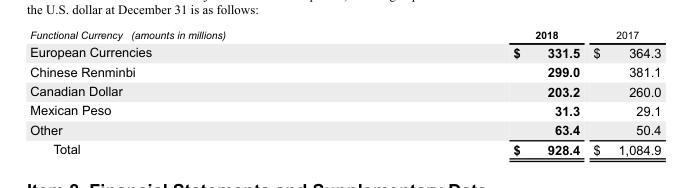table: (29, 28, 660, 156)
table column: (29, 28, 368, 156), (368, 28, 585, 156), (585, 28, 660, 156)
table column header: (29, 28, 660, 42)
table row: (29, 61, 660, 81), (29, 119, 660, 139), (29, 42, 660, 61), (29, 81, 660, 100), (29, 100, 660, 119), (29, 139, 660, 156), (29, 28, 660, 42)
